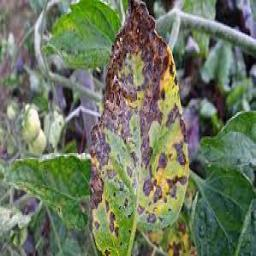Early_blight: (89, 0, 169, 231), (143, 179, 155, 197), (176, 141, 185, 165), (109, 212, 118, 235), (158, 153, 167, 168), (167, 184, 177, 197), (168, 178, 186, 184), (132, 151, 139, 166), (127, 165, 132, 180), (148, 214, 157, 221)
Leaf: (89, 0, 189, 256)
